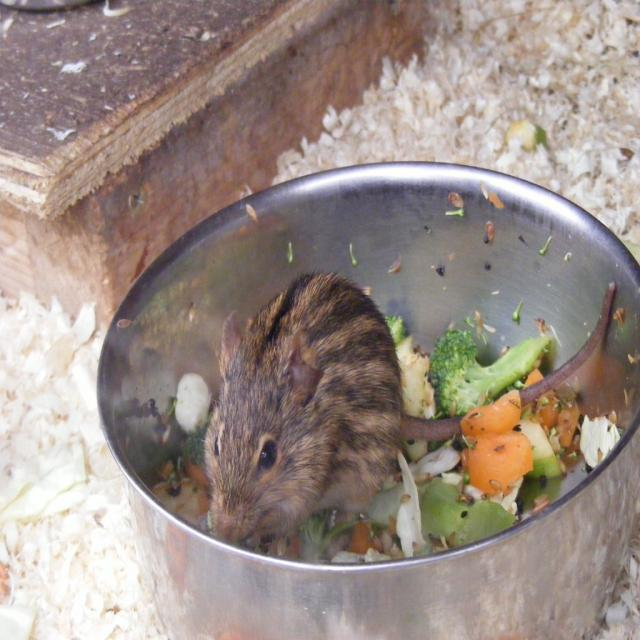rat: (198, 265, 616, 542)
